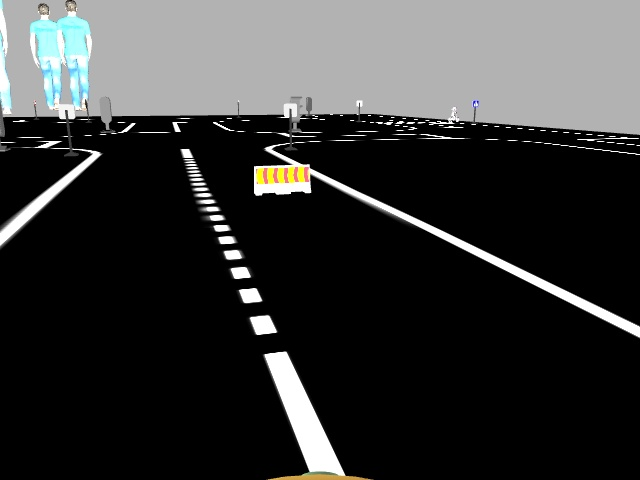ClosedRoadStand: (255, 165, 310, 190)
